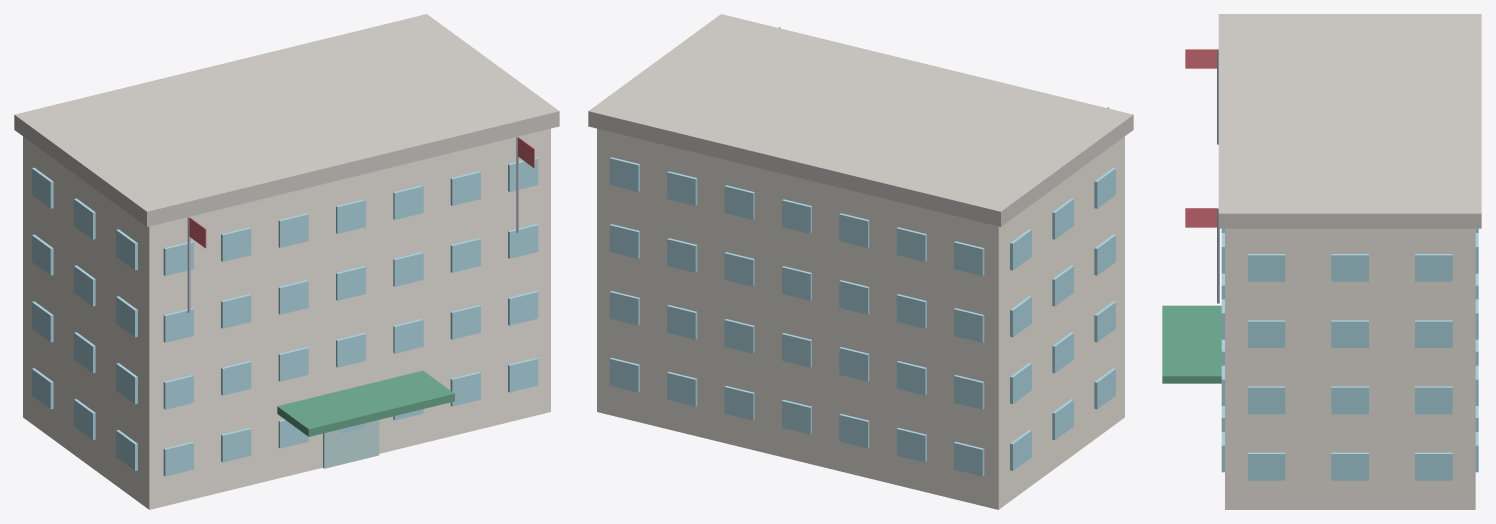
Rendered from hotel.glb.
3 views of the same model, side by side, from view 1: azimuth 30°, elevation 25°; view 2: azimuth 150°, elevation 25°; view 3: azimuth 270°, elevation 25° (orthographic).
Parts seen in each view (by area): view 1: hotel_wall_cream, hotel_roof_flat, hotel_window, hotel_pub_green, hotel_glass, hotel_red, hotel_metal; view 2: hotel_wall_cream, hotel_roof_flat, hotel_window; view 3: hotel_wall_cream, hotel_roof_flat, hotel_window, hotel_pub_green, hotel_red, hotel_metal.
Boxes of the visible parts, bbox=[...] form: hotel_wall_cream: bbox=[23, 128, 550, 509]; hotel_roof_flat: bbox=[14, 14, 559, 226]; hotel_window: bbox=[32, 157, 538, 476]; hotel_pub_green: bbox=[277, 370, 454, 436]; hotel_glass: bbox=[323, 420, 379, 468]; hotel_red: bbox=[189, 137, 534, 248]; hotel_metal: bbox=[187, 136, 518, 312]; hotel_wall_cream: bbox=[597, 128, 1124, 509]; hotel_roof_flat: bbox=[588, 14, 1133, 226]; hotel_window: bbox=[609, 157, 1115, 476]; hotel_wall_cream: bbox=[1225, 228, 1475, 509]; hotel_roof_flat: bbox=[1218, 14, 1481, 228]; hotel_window: bbox=[1221, 228, 1478, 480]; hotel_pub_green: bbox=[1162, 305, 1221, 383]; hotel_red: bbox=[1185, 49, 1216, 227]; hotel_metal: bbox=[1217, 49, 1219, 303].
Size of the model in its own units: 22.6 by 15.8 by 15.3.
